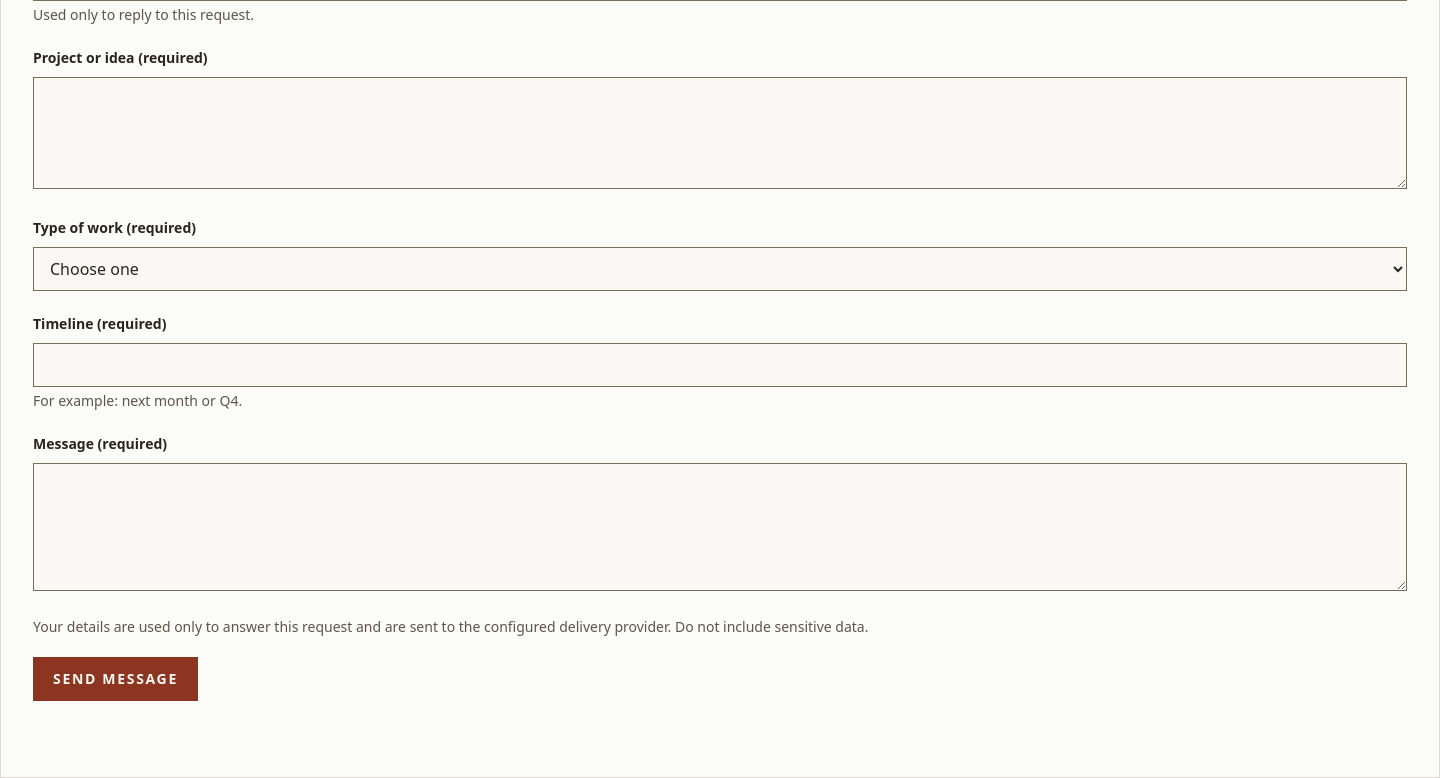
Test: ContactForm › provides visible labels and associates client validation errors
This screenshot has width=1440, height=778.
(page scrolled)
Step 1. Click the button "Send message" → (115, 679), box [33, 657, 198, 701]
(page scrolled)
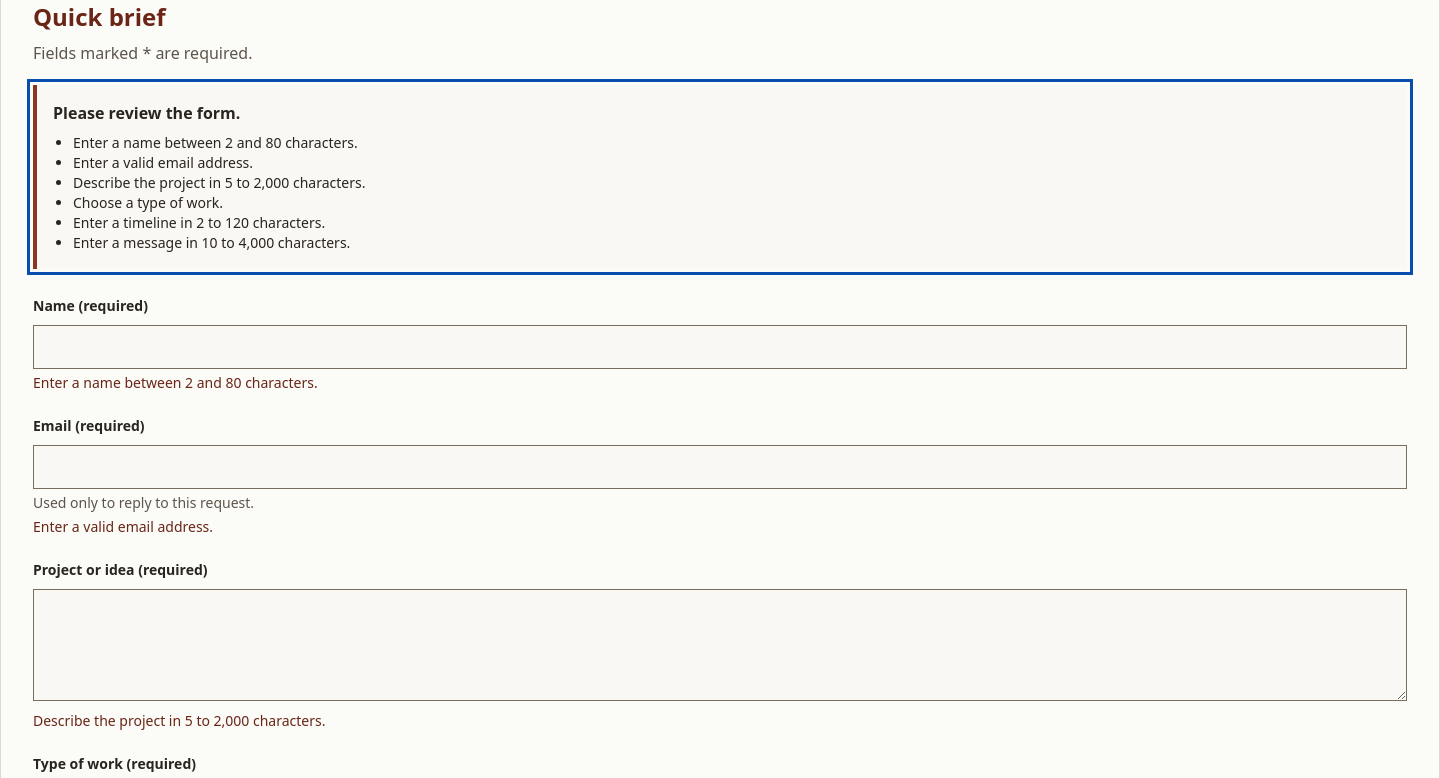
Check: the message shows "review the form", box [53, 102, 240, 124]
